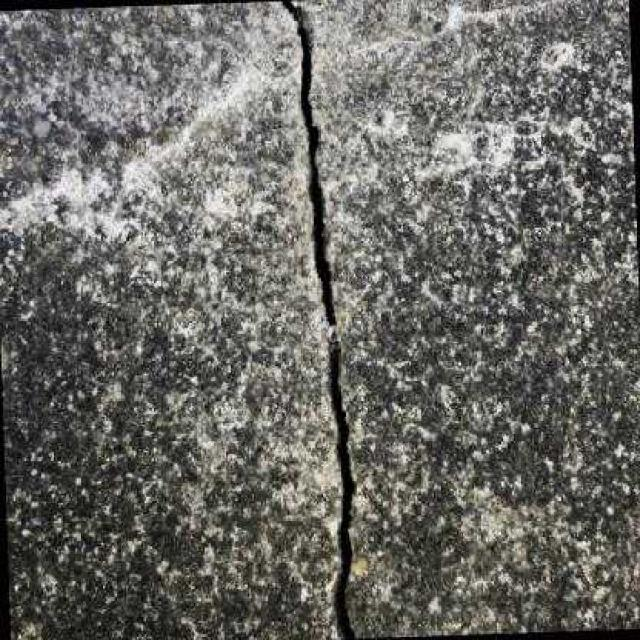D00: (282, 1, 357, 639)
